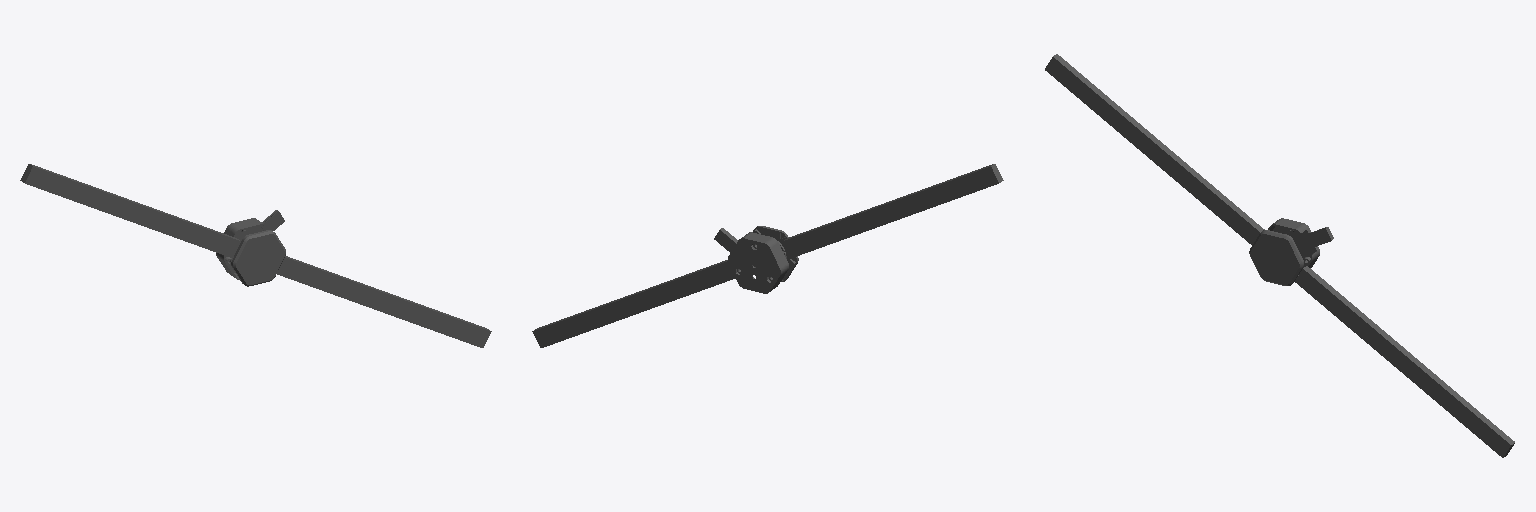
robot.urdf — Edge:
<?xml version="1.0" ?>
<!-- Generated using onshape-to-robot -->
<!-- Onshape https://cad.onshape.com/documents/ae3c4bc9d8cc7b8f7518de1a/w/d6007c6de47a2ddbff2b177c/e/4c8b76bad8f95189119cdb2d -->
<robot name="Edge">
  <!-- Link node_assembly -->
  <link name="node_assembly">
    <inertial>
      <origin xyz="-0.0328933 -0.017621 0.00944936" rpy="0 0 0"/>
      <mass value="0.211396"/>
      <inertia ixx="0.00123929" ixy="-2.27215e-06" ixz="0.00210937" iyy="0.00490534" iyz="-1.31211e-06" izz="0.00368069"/>
    </inertial>
    <!-- Part led_channel -->
    <visual>
      <origin xyz="-0.163487 -0.015206 0.0840451" rpy="0 0.523599 0"/>
      <geometry>
        <mesh filename="package://assets/led_channel.stl"/>
      </geometry>
      <material name="led_channel_material">
        <color rgba="0.4 0.4 0.4 1"/>
      </material>
    </visual>
    <collision>
      <origin xyz="-0.163487 -0.015206 0.0840451" rpy="0 0.523599 0"/>
      <geometry>
        <mesh filename="package://assets/led_channel.stl"/>
      </geometry>
    </collision>
    <!-- Part led_channel_2 -->
    <visual>
      <origin xyz="0.0963203 -0.015206 -0.0659549" rpy="3.14159 -0.523599 3.14159"/>
      <geometry>
        <mesh filename="package://assets/led_channel.stl"/>
      </geometry>
      <material name="led_channel_2_material">
        <color rgba="0.4 0.4 0.4 1"/>
      </material>
    </visual>
    <collision>
      <origin xyz="0.0963203 -0.015206 -0.0659549" rpy="3.14159 -0.523599 3.14159"/>
      <geometry>
        <mesh filename="package://assets/led_channel.stl"/>
      </geometry>
    </collision>
    <!-- Part bottom_plate_cover -->
    <visual>
      <origin xyz="-0.0335954 0.002794 0.00903417" rpy="0 -0 0"/>
      <geometry>
        <mesh filename="package://assets/bottom_plate_cover.stl"/>
      </geometry>
      <material name="bottom_plate_cover_material">
        <color rgba="0.4 0.4 0.4 1"/>
      </material>
    </visual>
    <collision>
      <origin xyz="-0.0335954 0.002794 0.00903417" rpy="0 -0 0"/>
      <geometry>
        <mesh filename="package://assets/bottom_plate_cover.stl"/>
      </geometry>
    </collision>
    <!-- Part top_plate -->
    <visual>
      <origin xyz="-0.0337699 -0.032806 0.00904513" rpy="3.14159 1.0472 3.14159"/>
      <geometry>
        <mesh filename="package://assets/top_plate.stl"/>
      </geometry>
      <material name="top_plate_material">
        <color rgba="0.4 0.4 0.4 1"/>
      </material>
    </visual>
    <collision>
      <origin xyz="-0.0337699 -0.032806 0.00904513" rpy="3.14159 1.0472 3.14159"/>
      <geometry>
        <mesh filename="package://assets/top_plate.stl"/>
      </geometry>
    </collision>
    <!-- Part middle_plate -->
    <visual>
      <origin xyz="-0.0335835 -0.009206 0.00904513" rpy="3.14159 1.0472 3.14159"/>
      <geometry>
        <mesh filename="package://assets/middle_plate.stl"/>
      </geometry>
      <material name="middle_plate_material">
        <color rgba="0.4 0.4 0.4 1"/>
      </material>
    </visual>
    <collision>
      <origin xyz="-0.0335835 -0.009206 0.00904513" rpy="3.14159 1.0472 3.14159"/>
      <geometry>
        <mesh filename="package://assets/middle_plate.stl"/>
      </geometry>
    </collision>
    <!-- Part bottom_plate -->
    <visual>
      <origin xyz="-0.0335891 0.002794 0.00902348" rpy="0 -0 0"/>
      <geometry>
        <mesh filename="package://assets/bottom_plate.stl"/>
      </geometry>
      <material name="bottom_plate_material">
        <color rgba="0.4 0.4 0.4 1"/>
      </material>
    </visual>
    <collision>
      <origin xyz="-0.0335891 0.002794 0.00902348" rpy="0 -0 0"/>
      <geometry>
        <mesh filename="package://assets/bottom_plate.stl"/>
      </geometry>
    </collision>
  </link>
  <!-- Frame edge-1 (dummy link + fixed joint) -->
  <link name="edge-1">
    <origin xyz="0 0 0" rpy="0 -0 0"/>
    <inertial>
      <origin xyz="0 0 0" rpy="0 0 0"/>
      <mass value="1e-9"/>
      <inertia ixx="0" ixy="0" ixz="0" iyy="0" iyz="0" izz="0"/>
    </inertial>
  </link>
  <joint name="edge-1_frame" type="fixed">
    <origin xyz="0.204573 -0.015206 -0.128455" rpy="2.0944 -0 1.5708"/>
    <parent link="node_assembly"/>
    <child link="edge-1"/>
    <axis xyz="0 0 0"/>
  </joint>
</robot>

--- Facts derived from the render (not from the file) ---
Views: 3 orthographic renders of the robot side by side, from view 1: azimuth 30°, elevation 25°; view 2: azimuth 150°, elevation 25°; view 3: azimuth 330°, elevation 25°.
Model Edge with 2 links and 1 joints (1 fixed), rooted at node_assembly, posed all joints at 0.
Links seen in each view (by area): view 1: node_assembly; view 2: node_assembly; view 3: node_assembly.
Boxes of the visible links, x1=… form: node_assembly: x1=20, y1=164, x2=491, y2=347; node_assembly: x1=532, y1=164, x2=1003, y2=347; node_assembly: x1=1045, y1=54, x2=1514, y2=457.
Bounding box of the posed robot: 0.485 × 0.0336 × 0.2901 m (x, y, z).
4 mesh visuals loaded from 5 distinct referenced files (3 binary STL); not drawn: 2 (reference not matched to a file when rendering).
